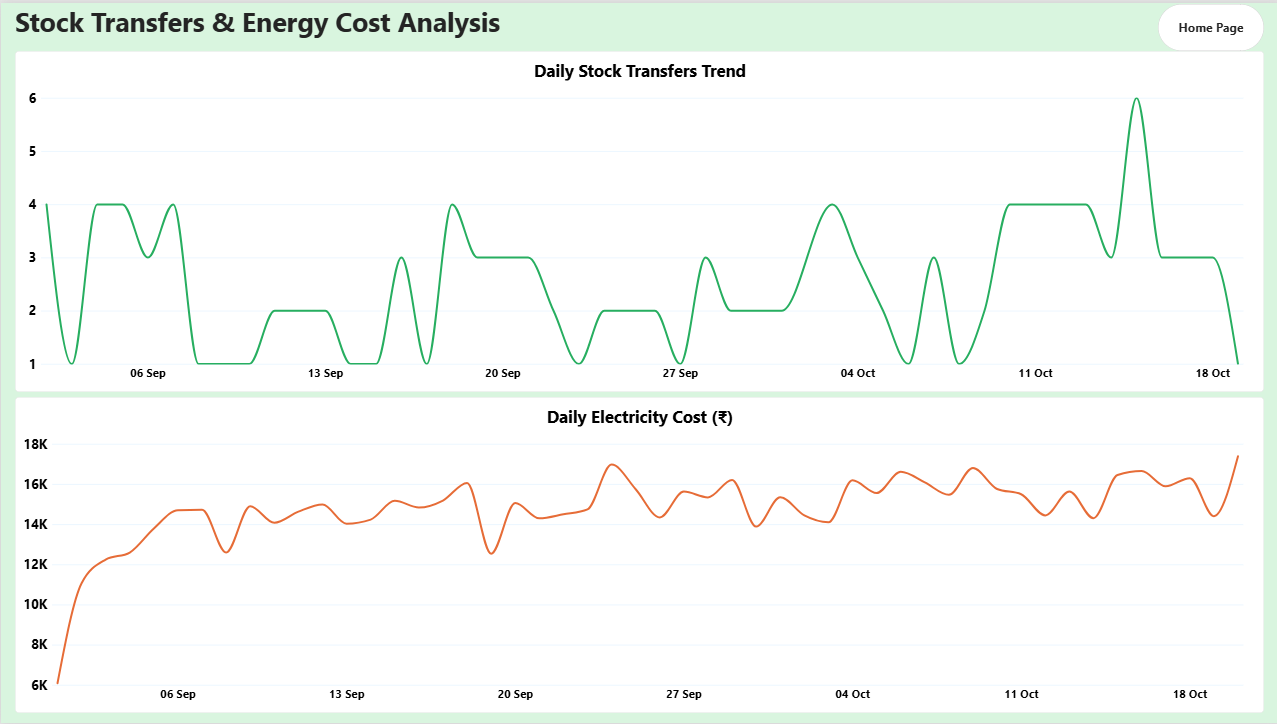

This screenshot's page, from the dashboard's own definition file:
{"tool":"powerbi","page":{"name":"Stock Transfers & Energy Cost Analysis","canvas":[2560,1440],"ordinal":4},"visuals":[{"type":"lineChart","title":"Daily Stock Transfers Trend","fields":{"Category":["DimDate.Date"],"Y":["Count(T_Stock_Transfers.Transfer_ID)"]},"box":[28,96,2498,682],"z":0},{"type":"lineChart","title":"Daily Electricity Cost (₹)","fields":{"Category":["DimDate.Date"],"Y":["Sum(T_Energy_Daily.Energy_Cost_INR)"]},"box":[28,788,2498,632],"z":1000},{"type":"textbox","box":[28,0,1328,78],"z":2000},{"type":"pageNavigator","box":[2314,2,212,94],"z":2001}]}

Visuals, with their boxes in screenshot pixels (x1, y1, x2, y2), scaled from the page's 2560x1440 canvas onto the 1277x724 screenshot:
"Daily Stock Transfers Trend" lineChart: Rect(14, 48, 1260, 391)
"Daily Electricity Cost (₹)" lineChart: Rect(14, 396, 1260, 714)
textbox: Rect(14, 0, 676, 39)
pageNavigator: Rect(1154, 1, 1260, 48)
